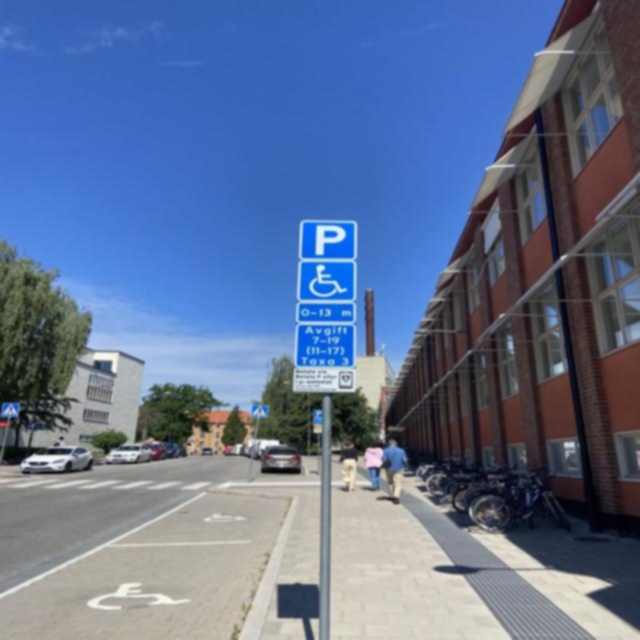P-skylt: (300, 220, 356, 261)
